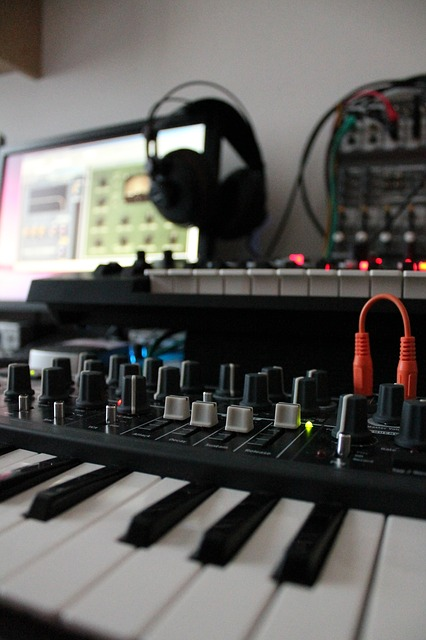headphones: (144, 80, 268, 241)
